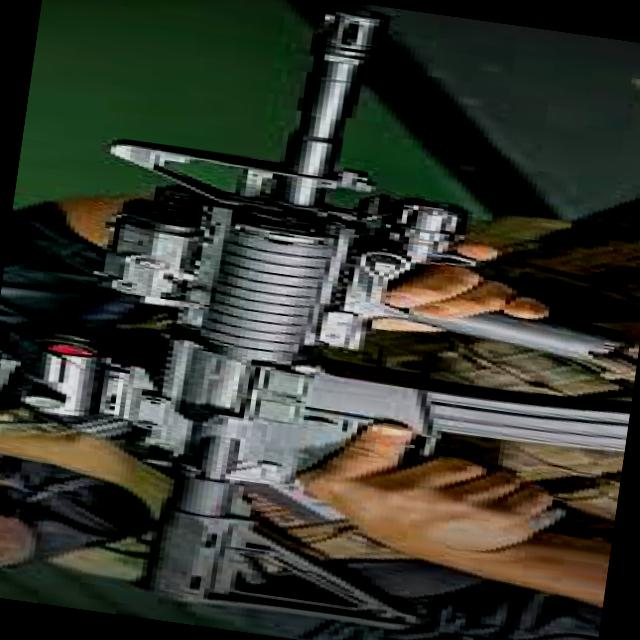long weapon: (148, 0, 594, 640)
